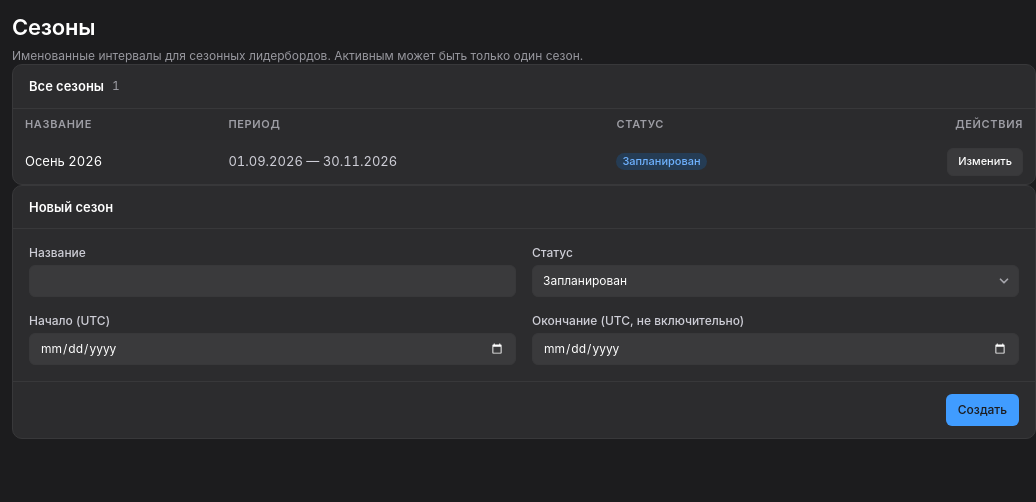
Test: seasons settings page › edits a season through PATCH and can be cancelled
Expected: the text "Осень 2026" is shown, 13,140 -> 216,184
Click the button "Изменить" at point(985, 162), box 947,148 -> 1023,176
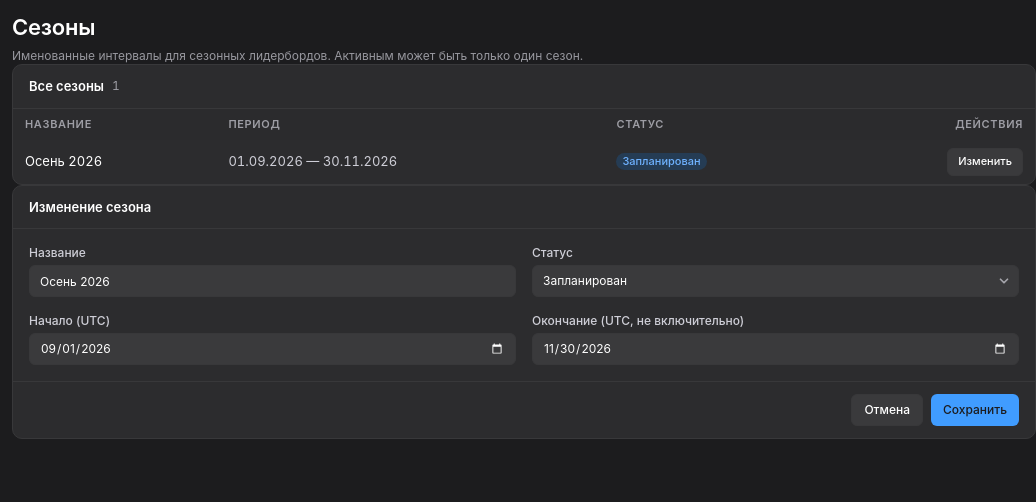
Now the heading "Изменение сезона" is shown, box 29,198 -> 151,216
Replace the text in the field labelled "Название" with "Осень 2026 (правка)" at point(272, 281), box 29,265 -> 516,297
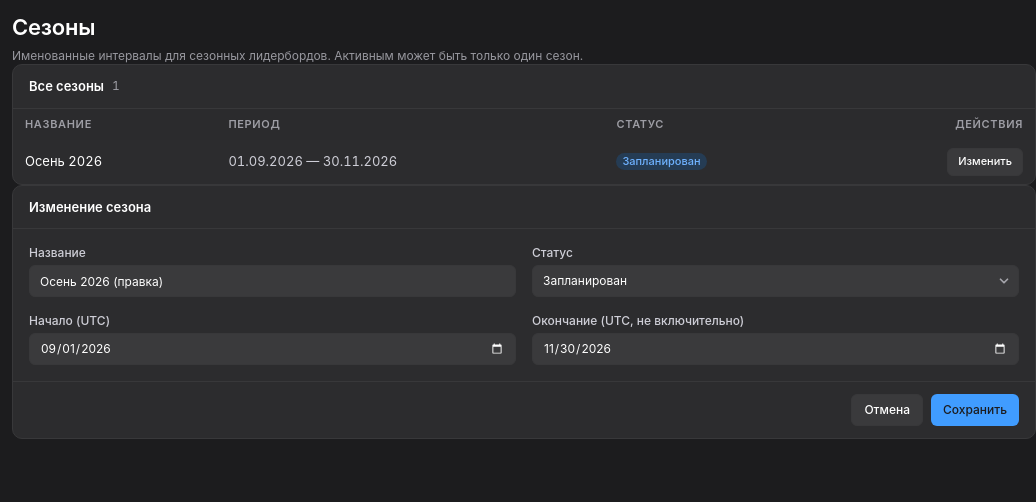
Click the button "Сохранить" at point(975, 410), box 931,394 -> 1019,426
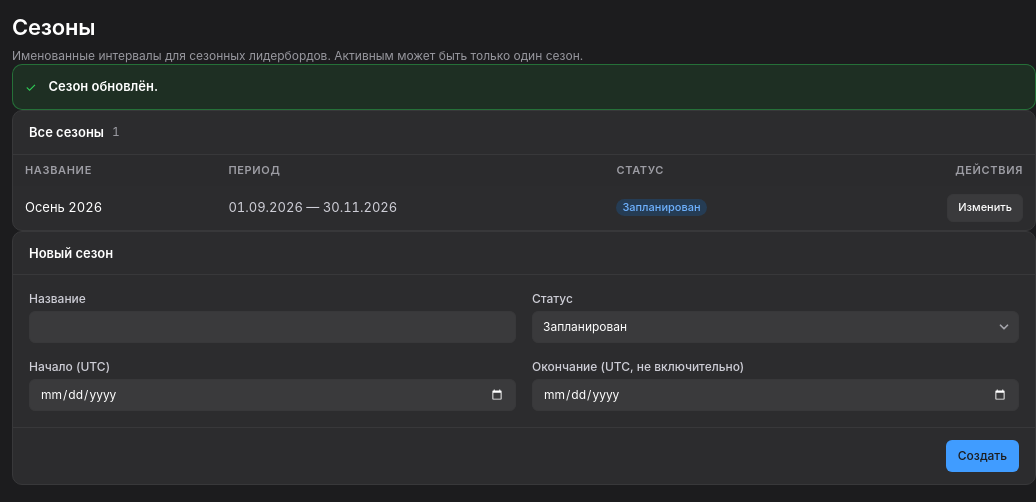
Now the text "Сезон обновлён." is shown, box 48,78 -> 158,94
Now the heading "Новый сезон" is shown, box 29,244 -> 113,262
